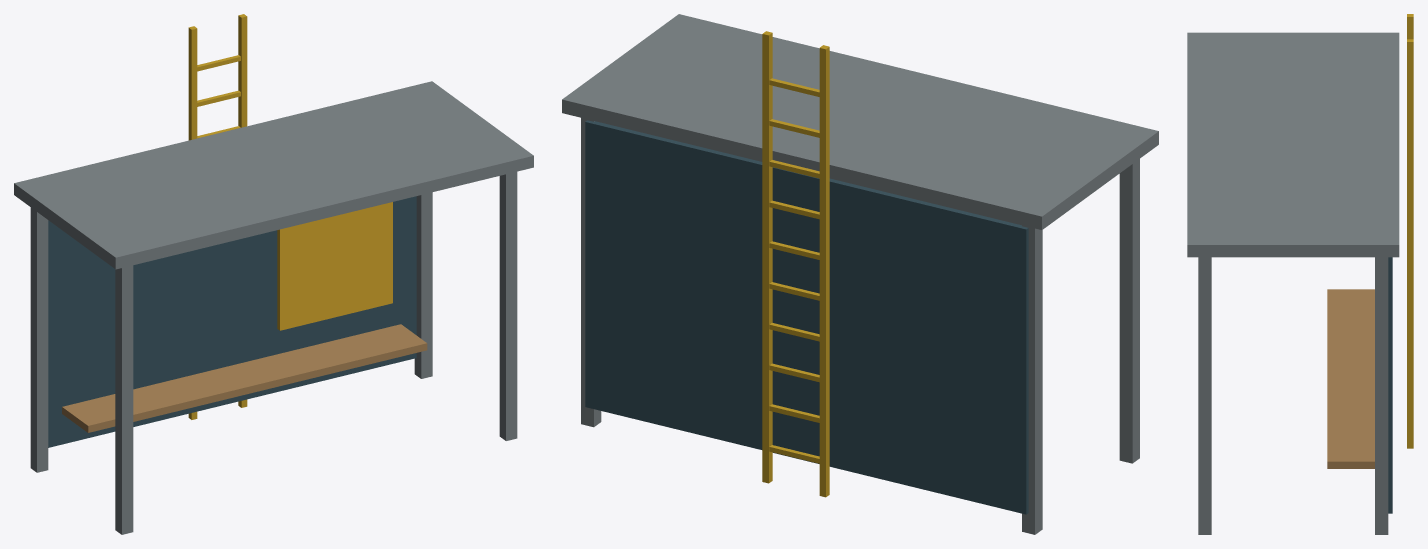
Rendered from bus_stop.glb.
The picture shows the model from 3 angles, left to right: view 1: azimuth 30°, elevation 25°; view 2: azimuth 150°, elevation 25°; view 3: azimuth 270°, elevation 25°; orthographic projection. The views are drawn at different scales.
Parts seen in each view (by area): view 1: bus_stop; view 2: bus_stop; view 3: bus_stop.
Boxes of the visible parts, x1=… form: bus_stop: x1=14, y1=14, x2=533, y2=534; bus_stop: x1=562, y1=14, x2=1158, y2=534; bus_stop: x1=1187, y1=14, x2=1413, y2=534.
Bounding box in the file's own units: 3.7 × 3.3 × 1.66.
